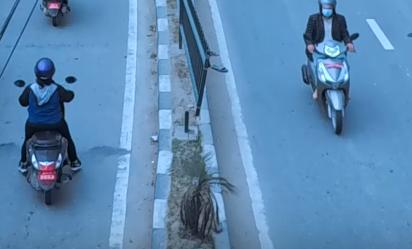scooter: (12, 74, 84, 211), (301, 33, 365, 137)
